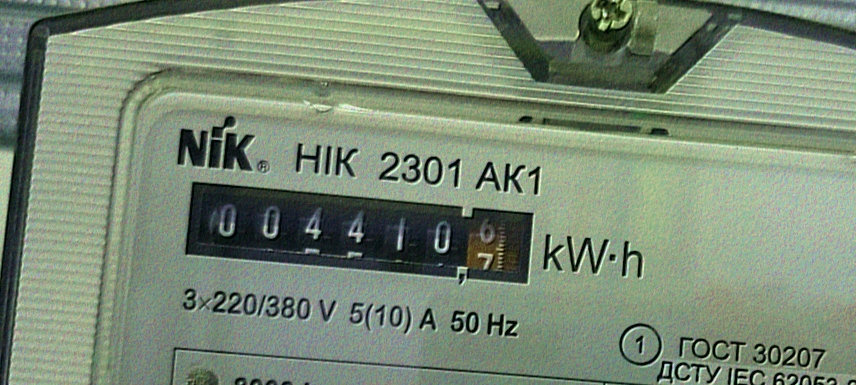0: (213, 200, 238, 239), (430, 218, 452, 256), (259, 202, 280, 241)
1: (390, 215, 407, 253)
4: (342, 207, 367, 247), (300, 202, 324, 242)
6: (477, 218, 496, 245)
7: (473, 250, 493, 271)
screen: (171, 169, 546, 297)
